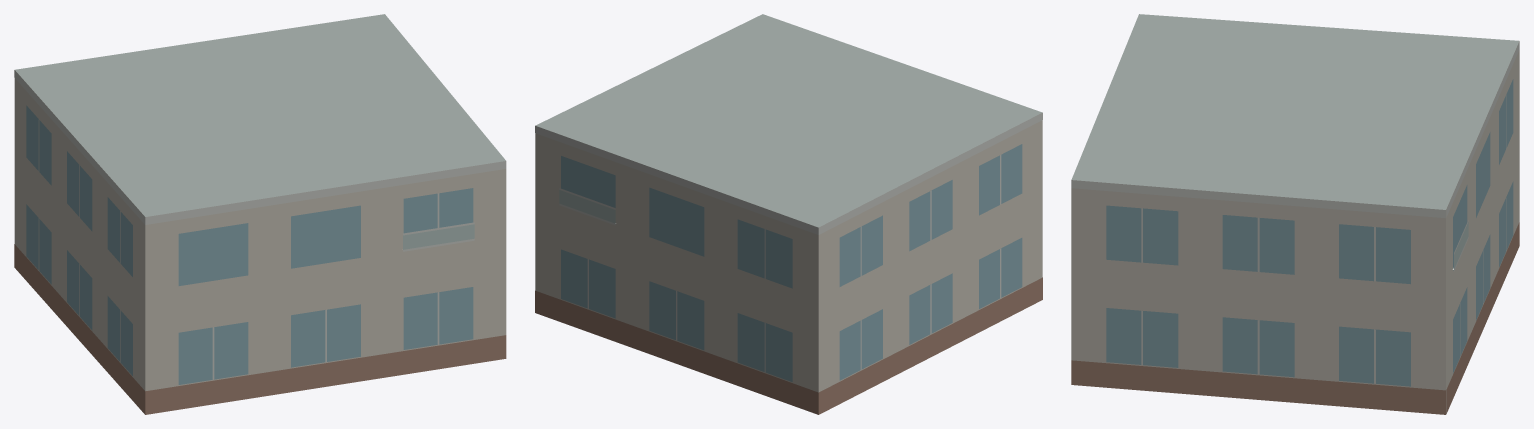
File: survey-upis-32989862.glb
3 renders of one model, left to right at view 1: azimuth 30°, elevation 25°; view 2: azimuth 150°, elevation 25°; view 3: azimuth 270°, elevation 25°, orthographic. The views are drawn at different scales.
Parts seen in each view (by area): view 1: survey-upis-32989862.tmp; view 2: survey-upis-32989862.tmp; view 3: survey-upis-32989862.tmp.
Part boxes in pixels (x1,y1,x2,y2): survey-upis-32989862.tmp: (14, 14, 506, 414); survey-upis-32989862.tmp: (535, 14, 1042, 414); survey-upis-32989862.tmp: (1071, 14, 1519, 414).
Size of the model in its own units: 12.53 by 6.1 by 12.11.
